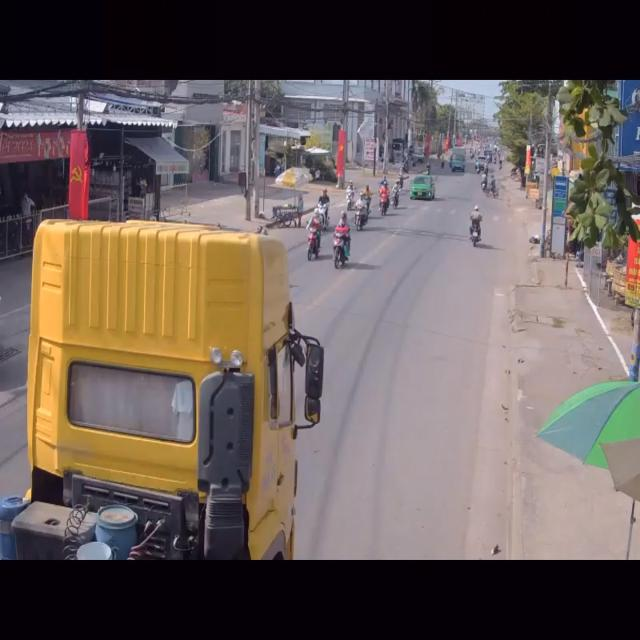motorbike: (333, 212, 352, 272), (306, 215, 322, 262), (468, 202, 481, 248), (317, 189, 331, 229)
truck: (0, 225, 318, 563)
